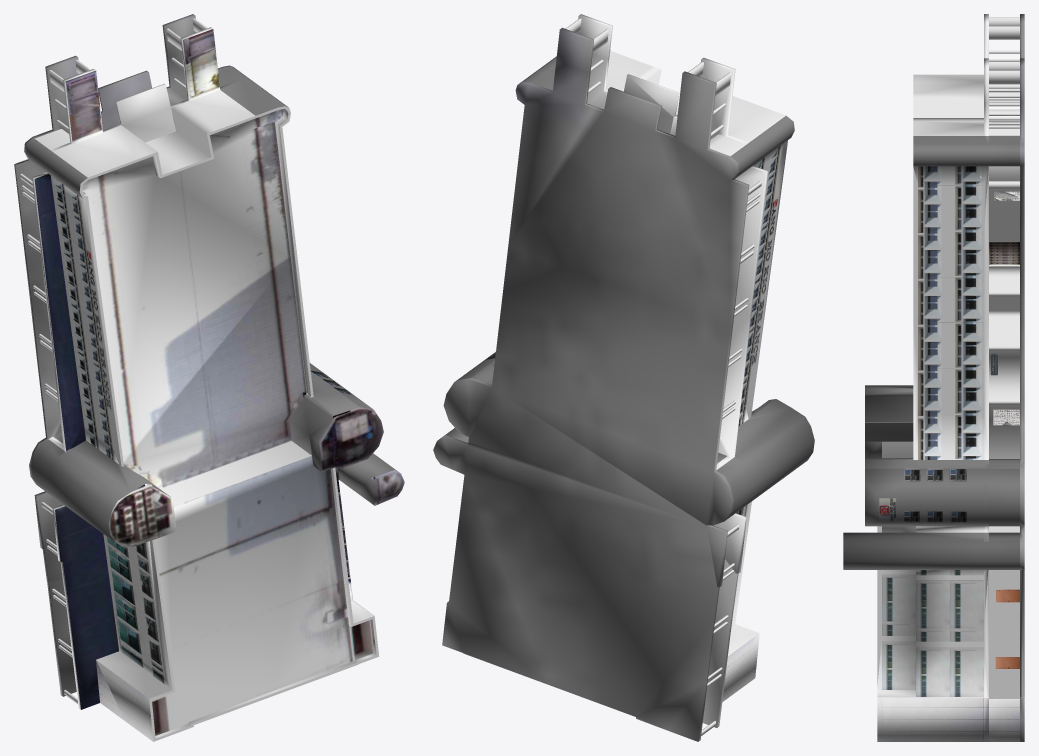
Rendered from amk_blk715_building.obj.
3 renders of one model, left to right at view 1: azimuth 30°, elevation 25°; view 2: azimuth 150°, elevation 25°; view 3: azimuth 270°, elevation 25°, orthographic. The views are drawn at different scales.
Visible parts, largest first — view 1: polygon.861; view 2: polygon.861; view 3: polygon.861.
Part boxes in pixels (<box>): polygon.861: <box>14,14,404,741</box>; polygon.861: <box>433,14,814,741</box>; polygon.861: <box>843,14,1024,741</box>.
Bounding box in the file's own units: 36.57 × 75.57 × 19.12.
1 material, 1 textured.
